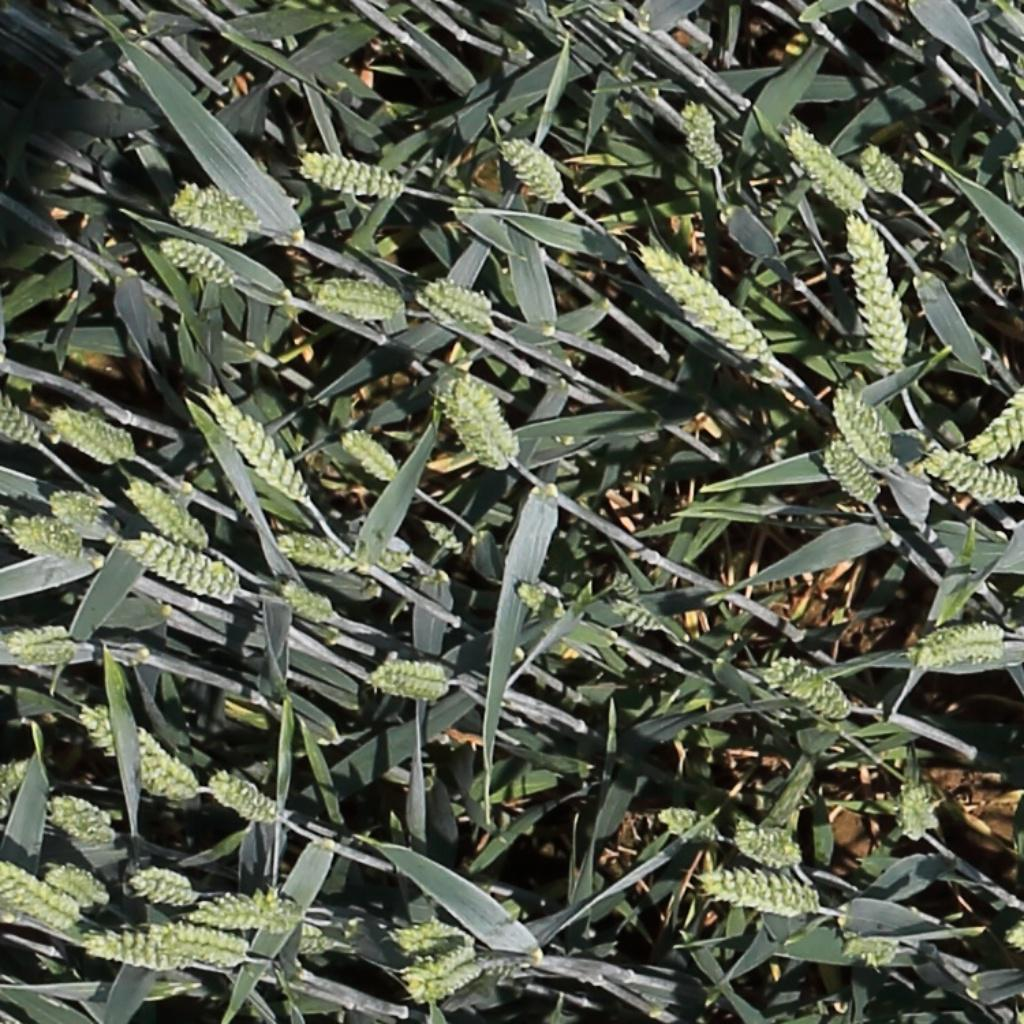0-0: (635, 237, 773, 367), (199, 385, 307, 502), (844, 212, 909, 372), (121, 533, 245, 608), (780, 124, 871, 214), (441, 375, 521, 473), (76, 697, 174, 775), (696, 868, 821, 924), (120, 475, 210, 551), (162, 180, 264, 246), (760, 653, 853, 724), (395, 945, 497, 1007), (172, 887, 310, 931), (0, 858, 84, 930), (295, 149, 409, 202), (907, 616, 1012, 673), (828, 383, 896, 471), (47, 402, 137, 464), (919, 449, 1020, 504), (141, 922, 252, 968), (76, 933, 194, 974), (496, 133, 565, 203), (206, 768, 287, 827), (967, 383, 1024, 466), (7, 512, 97, 564), (305, 278, 408, 323), (271, 528, 360, 579), (364, 653, 454, 703), (821, 434, 880, 509), (386, 915, 483, 959), (422, 272, 502, 322), (45, 791, 118, 844), (42, 857, 114, 910), (416, 290, 496, 337), (157, 236, 233, 285), (4, 616, 79, 664), (138, 751, 201, 804), (652, 804, 726, 848), (126, 863, 201, 906), (733, 825, 803, 871), (342, 429, 399, 482), (856, 140, 906, 199), (896, 778, 942, 841), (275, 580, 339, 624), (513, 575, 570, 623), (0, 390, 43, 449), (46, 487, 105, 525), (845, 932, 904, 968), (417, 517, 465, 558), (293, 921, 349, 956), (685, 126, 724, 175), (0, 752, 36, 804), (607, 600, 663, 633), (604, 565, 644, 610), (676, 98, 722, 131), (998, 139, 1024, 176), (1001, 917, 1024, 947)
